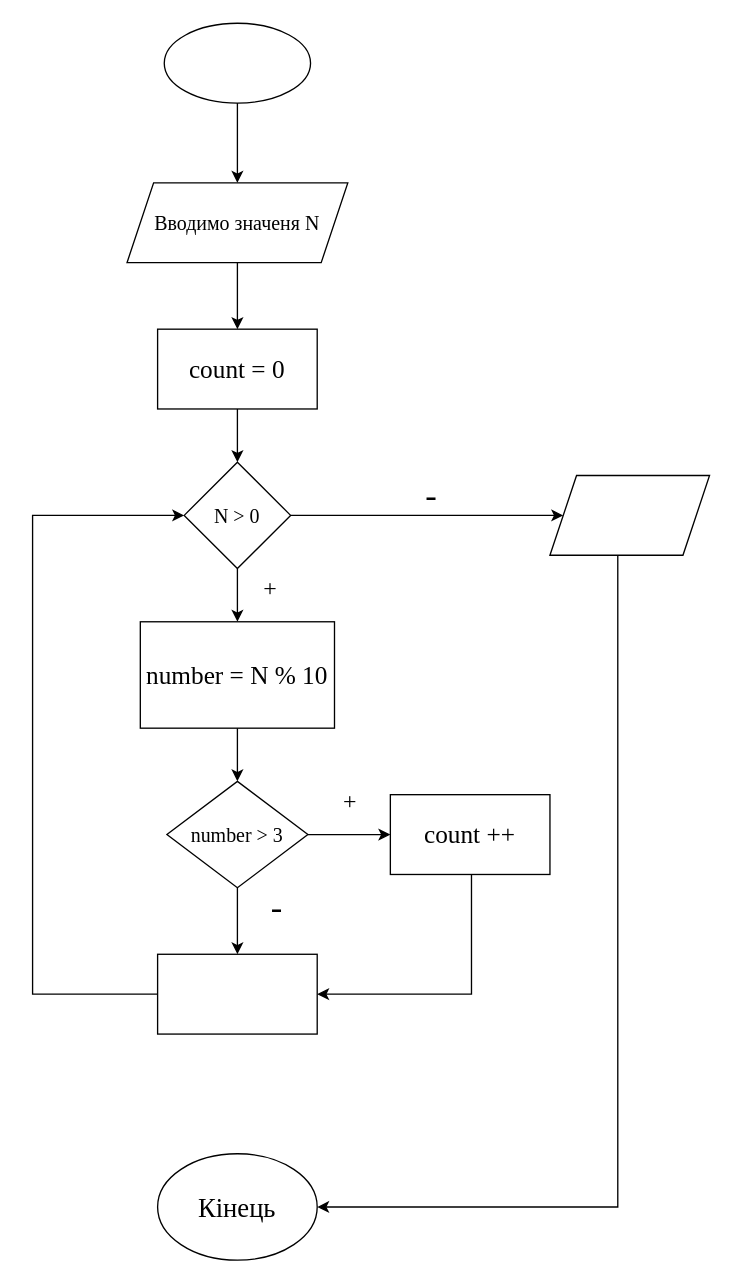
The diagram is 733 pixels wide and 1283 high, and some of its shapes have lost their labels. Each missing label, with the centre of its shape:
"count" belongs at pixel 629 514.
"N= N / 10" belongs at pixel 236 993.
"Початок" belongs at pixel 237 62.
